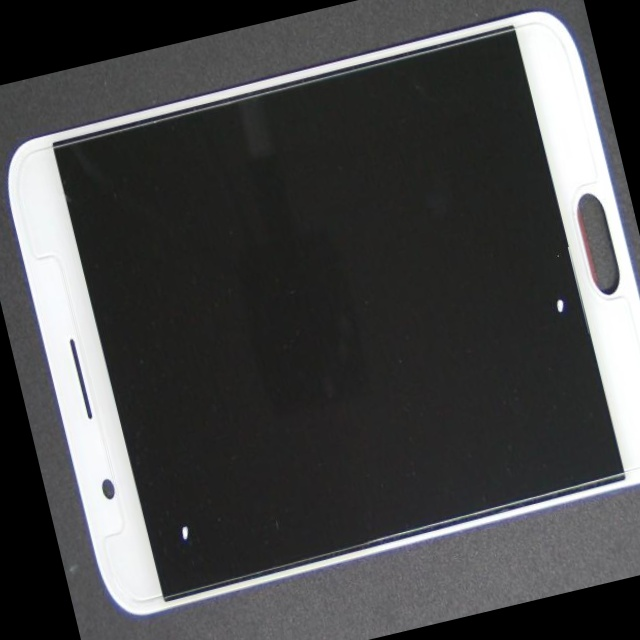stain: (256, 55, 640, 488), (64, 308, 257, 640)
